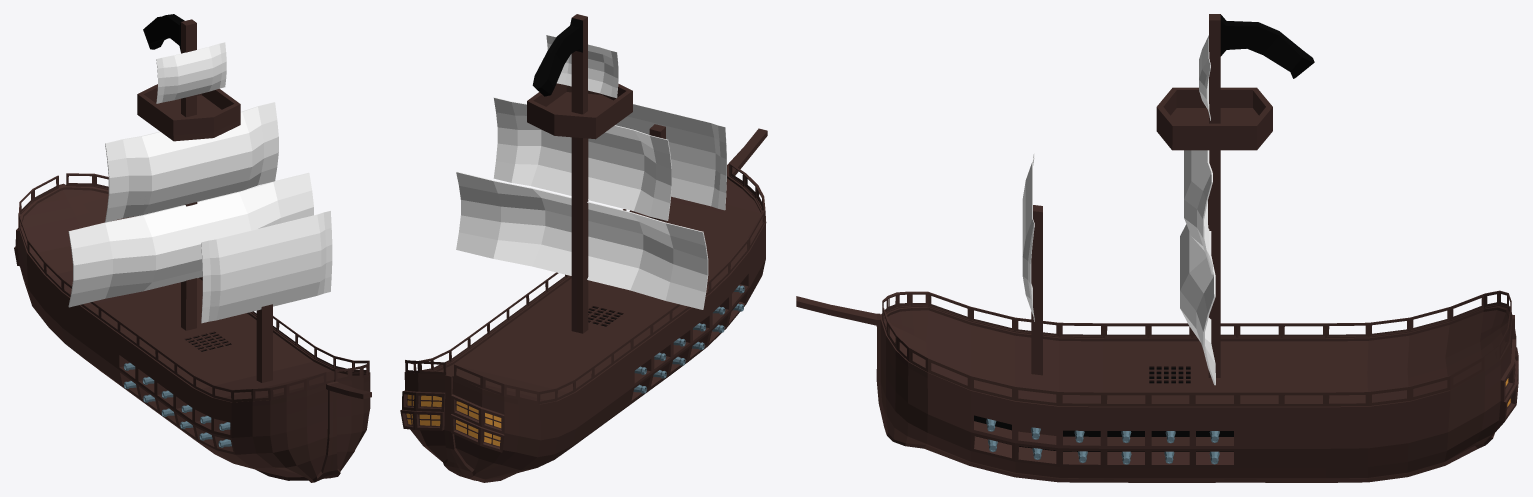
The model's file is PirateShip3ElectricBoogaloo4.fbx.
3 renders of one model, left to right at view 1: azimuth 30°, elevation 25°; view 2: azimuth 150°, elevation 25°; view 3: azimuth 270°, elevation 25°, orthographic. The views are drawn at different scales.
Parts seen in each view (by area): view 1: Cube; view 2: Cube; view 3: Cube.
Part boxes in pixels (x1,y1,x2,y2): Cube: (14, 14, 371, 482); Cube: (400, 14, 767, 482); Cube: (796, 14, 1518, 482).
Bounding box in the file's own units: 391 × 613 × 868.
